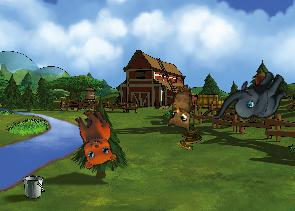bear: (61, 104, 124, 174)
elephant: (211, 55, 293, 143)
owl: (162, 83, 195, 133)
